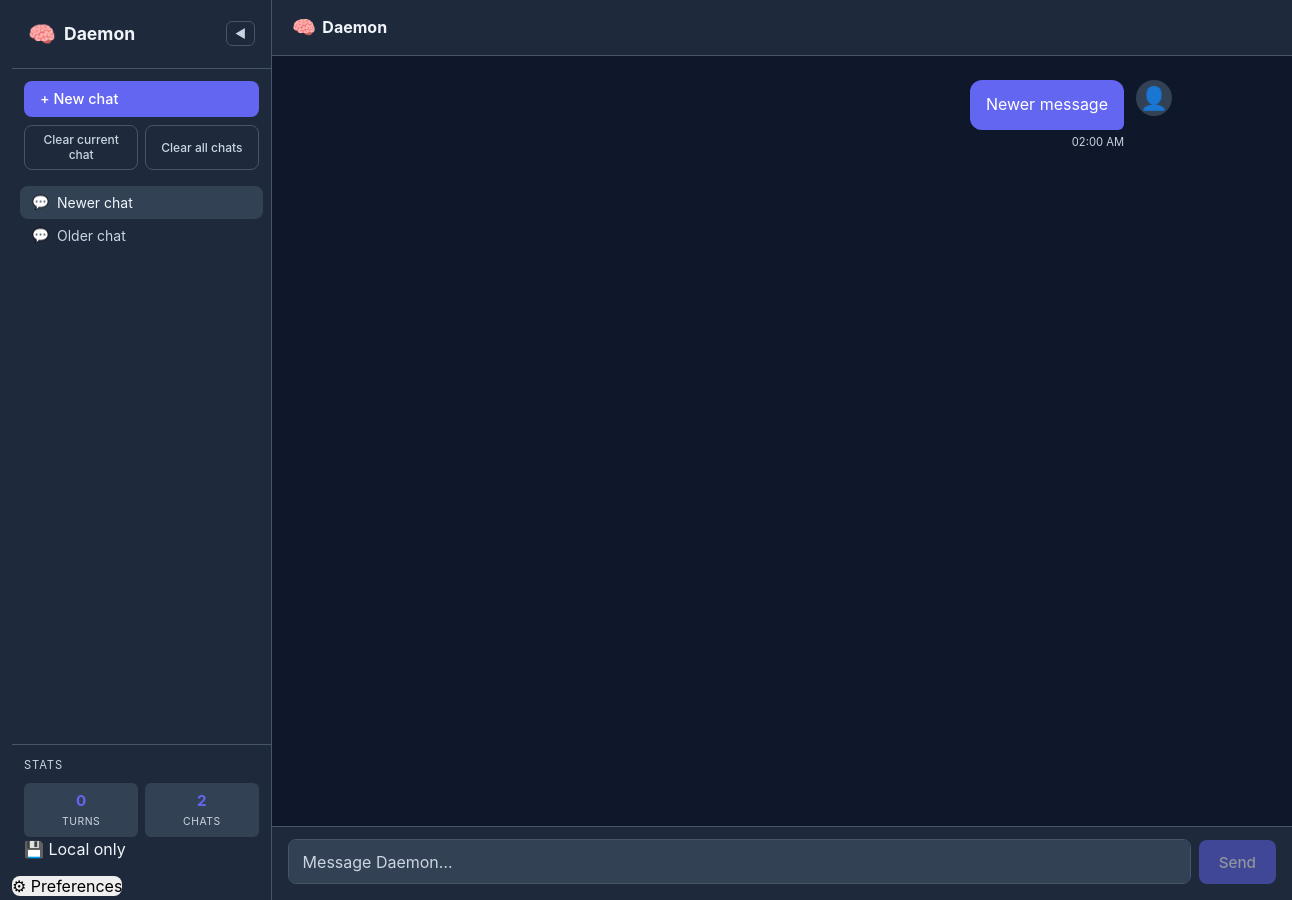
Scenario: DaemonInterface › selecting a sidebar conversation and sending appends to that conversation only
The image size is (1292, 900).
# Select the older conversation in the sidebar.
Click the text "Older chat". click: coordinates (91, 235)
box: [57,227,126,244]
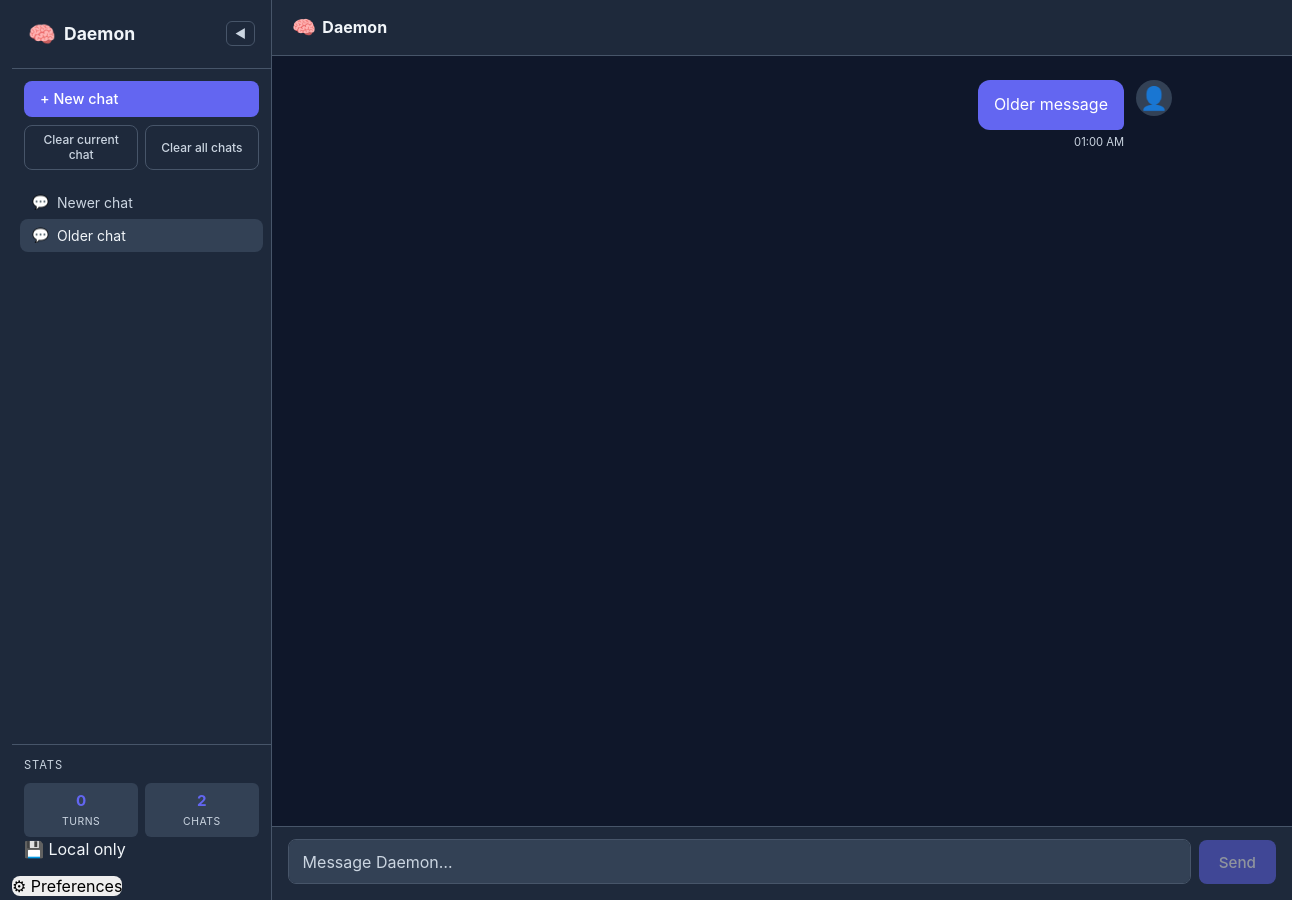
Type "reply to older" into the text box with placeholder "Message Daemon…". click: coordinates (739, 862)
box: [288,839,1191,884]
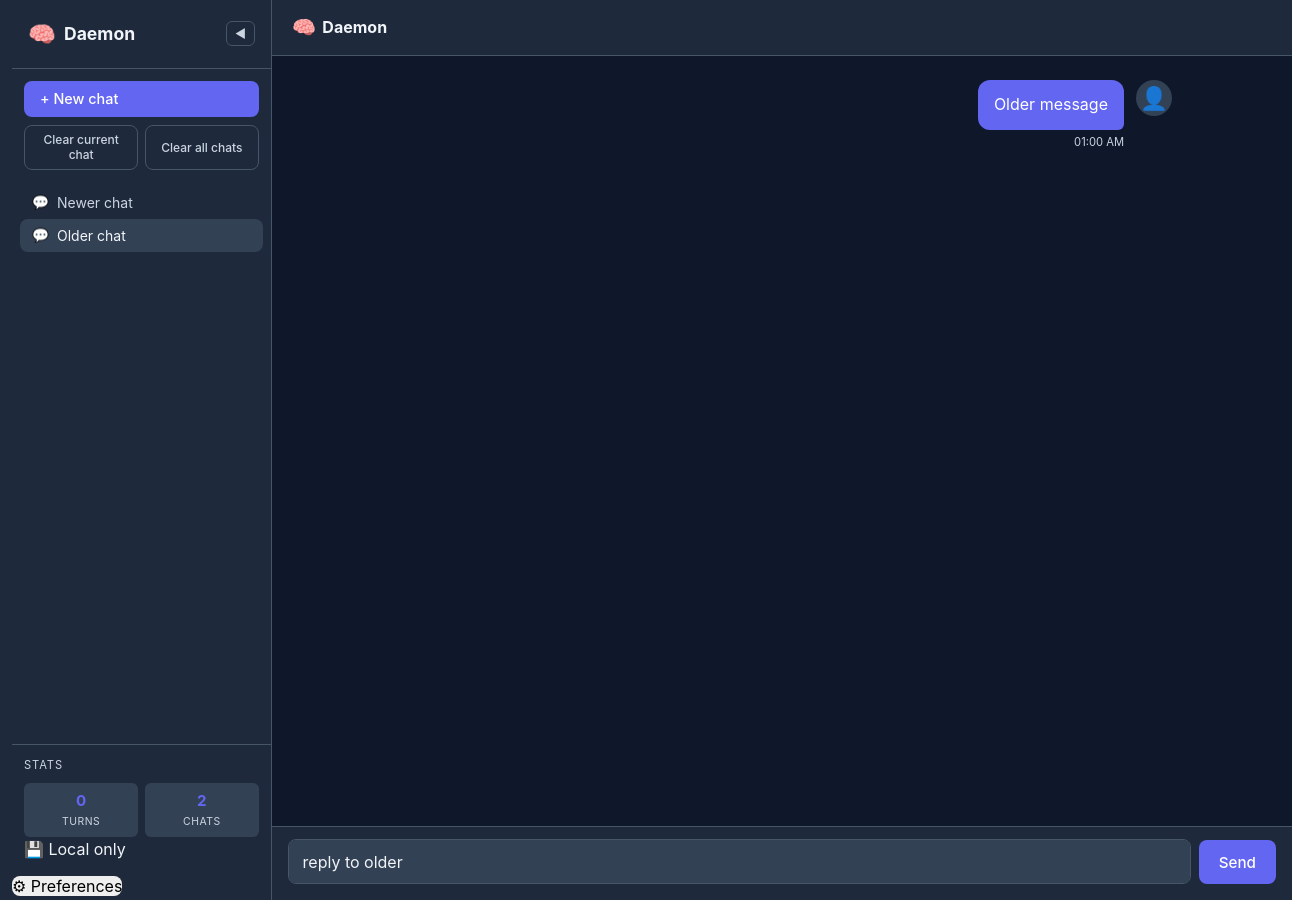
Click the button with aria-label "Send message". click: coordinates (1237, 862)
box: [1199,840,1276,884]
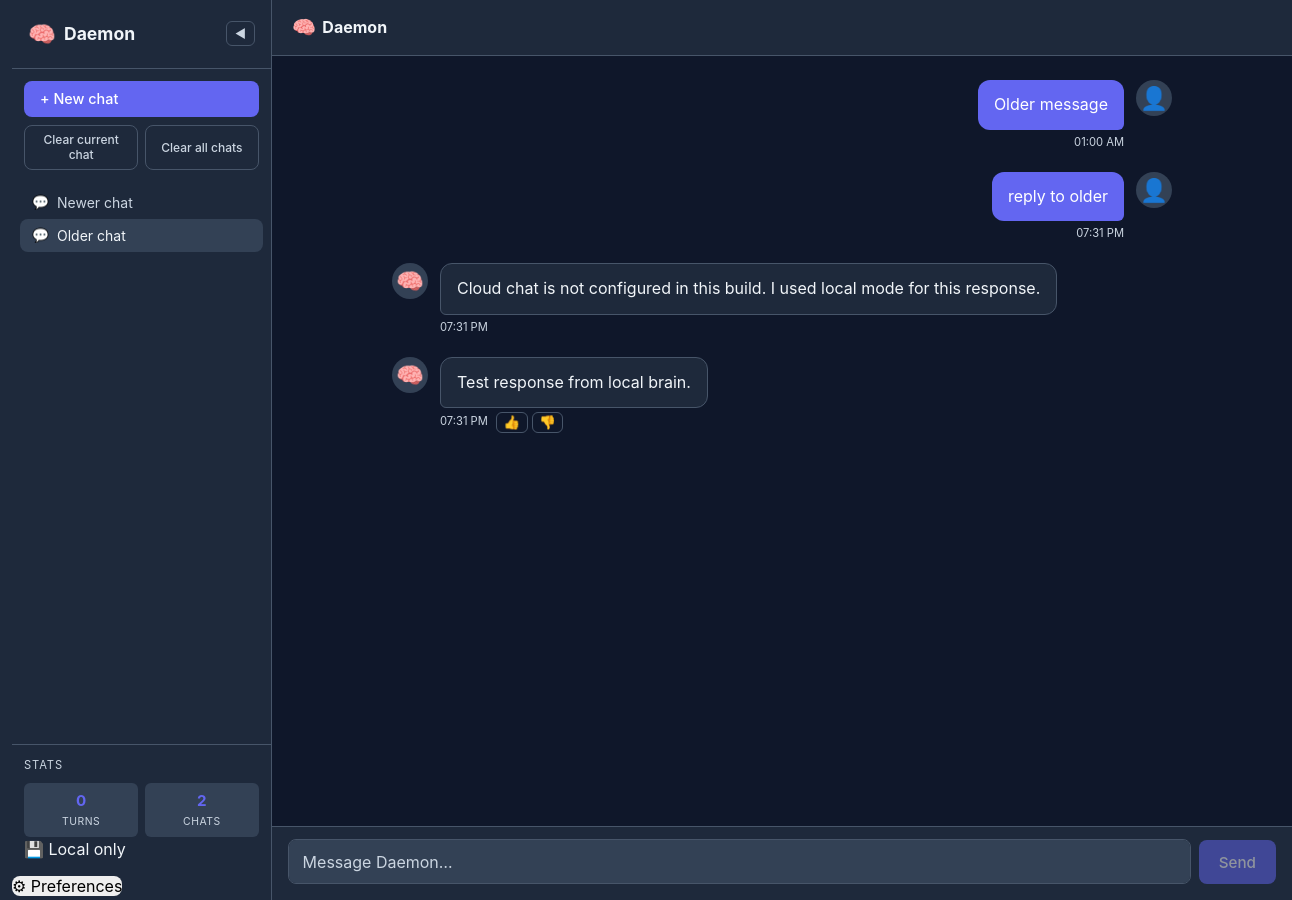
Expected: the text "reply to older" is shown, [1008,184,1108,209]
